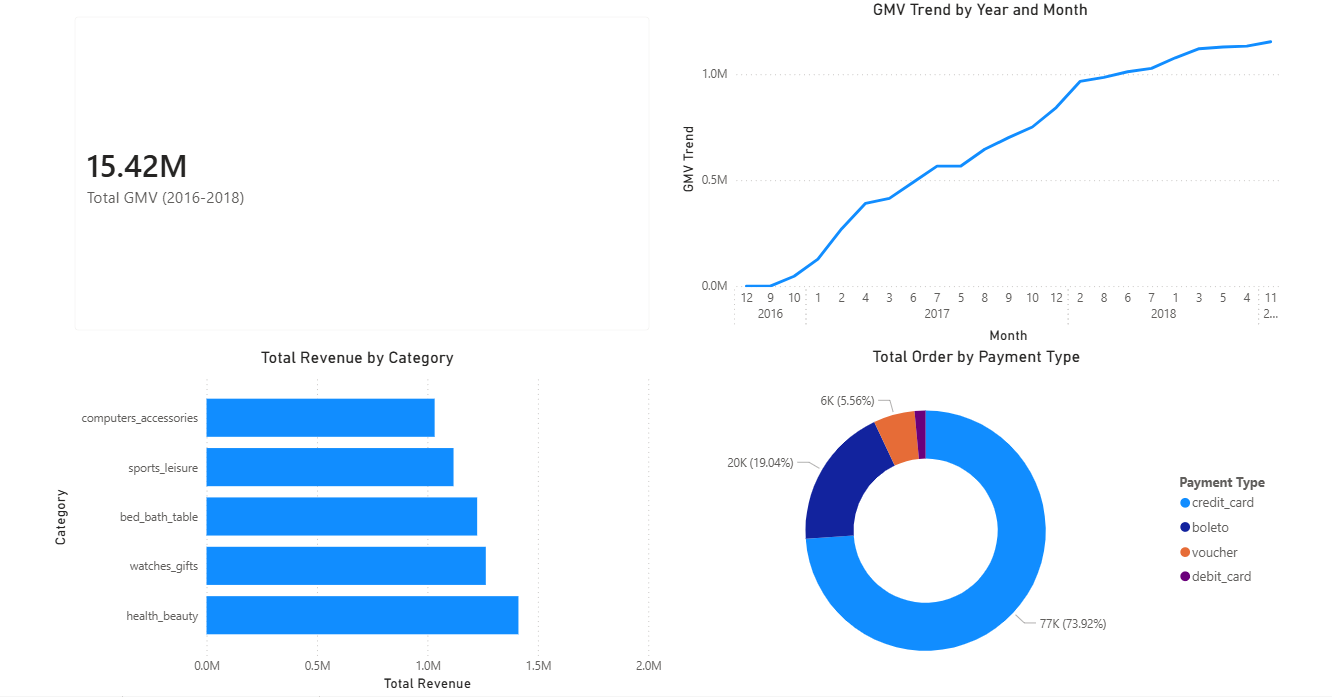

The page's visual inventory and layout, read from the dashboard file:
{"tool":"powerbi","page":{"name":"Sales Performance (GMV","canvas":[1280,720],"ordinal":0},"visuals":[{"type":"cardVisual","fields":{"Data":["Sum(Total_Gmv_Analysis.Total_GMV)"]},"box":[10.1,0,629.9,359.5],"z":0},{"type":"lineChart","fields":{"Category":["Monthly_Sales_Trend.Order_Year","Monthly_Sales_Trend.Order_Month"],"Y":["Sum(Monthly_Sales_Trend.Monthly_GMV)"]},"box":[650,0,630,360],"z":1000},{"type":"barChart","fields":{"Category":["Top_Sales_By_Category.Category"],"Y":["Sum(Top_Sales_By_Category.Total_Revenue)"]},"box":[0,360,640,360],"z":2000},{"type":"donutChart","fields":{"Category":["Payment_Type_By_Order.Payment_Type"],"Y":["Sum(Payment_Type_By_Order.Total_Order)"]},"box":[640,359,640,361],"z":3000}]}

Visuals, with their boxes on the page's 1280x720 design canvas (x1, y1, x2, y2). These are canvas units, not pixel positions in the 1332x697 screenshot, which may show the page scaled, cropped or inside an application window:
cardVisual - Sum(Total_Gmv_Analysis.Total_GMV): x1=10, y1=0, x2=640, y2=360
lineChart - Monthly_Sales_Trend.Order_Year x Monthly_Sales_Trend.Order_Month: x1=650, y1=0, x2=1280, y2=360
barChart - Top_Sales_By_Category.Category x Sum(Top_Sales_By_Category.Total_Revenue): x1=0, y1=360, x2=640, y2=720
donutChart - Payment_Type_By_Order.Payment_Type x Sum(Payment_Type_By_Order.Total_Order): x1=640, y1=359, x2=1280, y2=720
